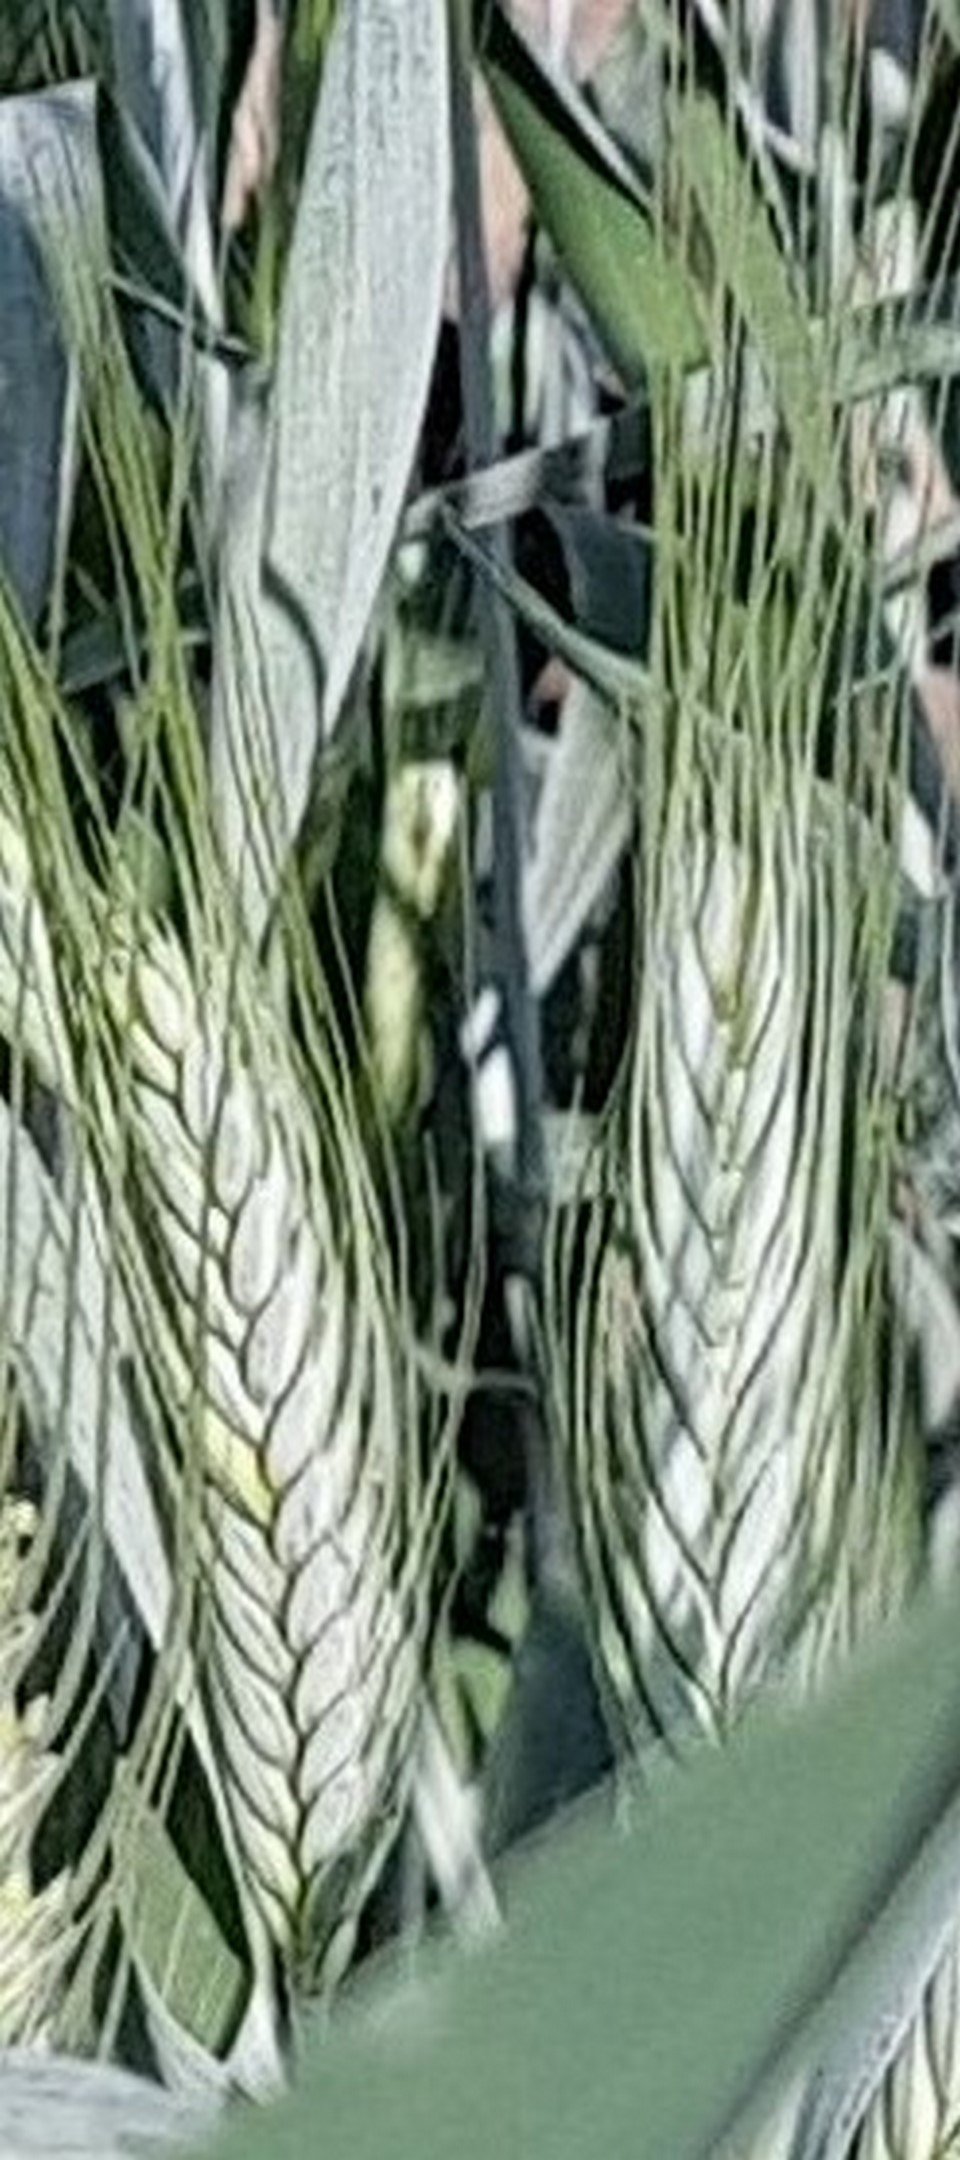Healthy Wheat: (74, 875, 435, 1949), (574, 756, 855, 1759)
